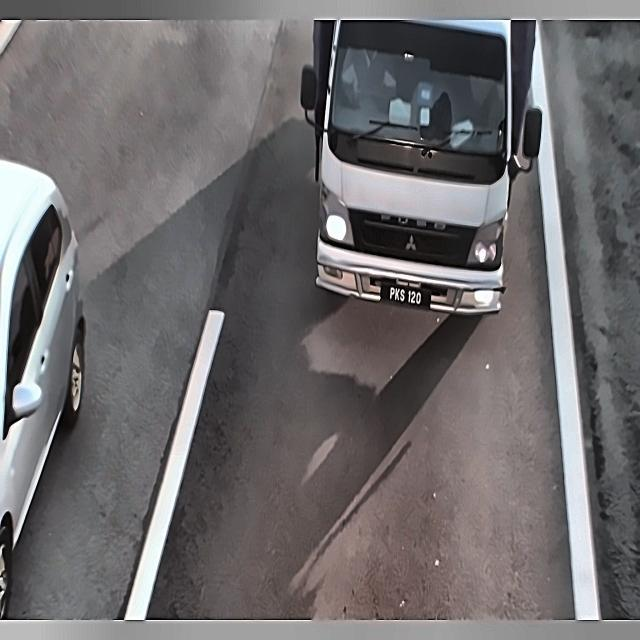car: (379, 280, 430, 315)
